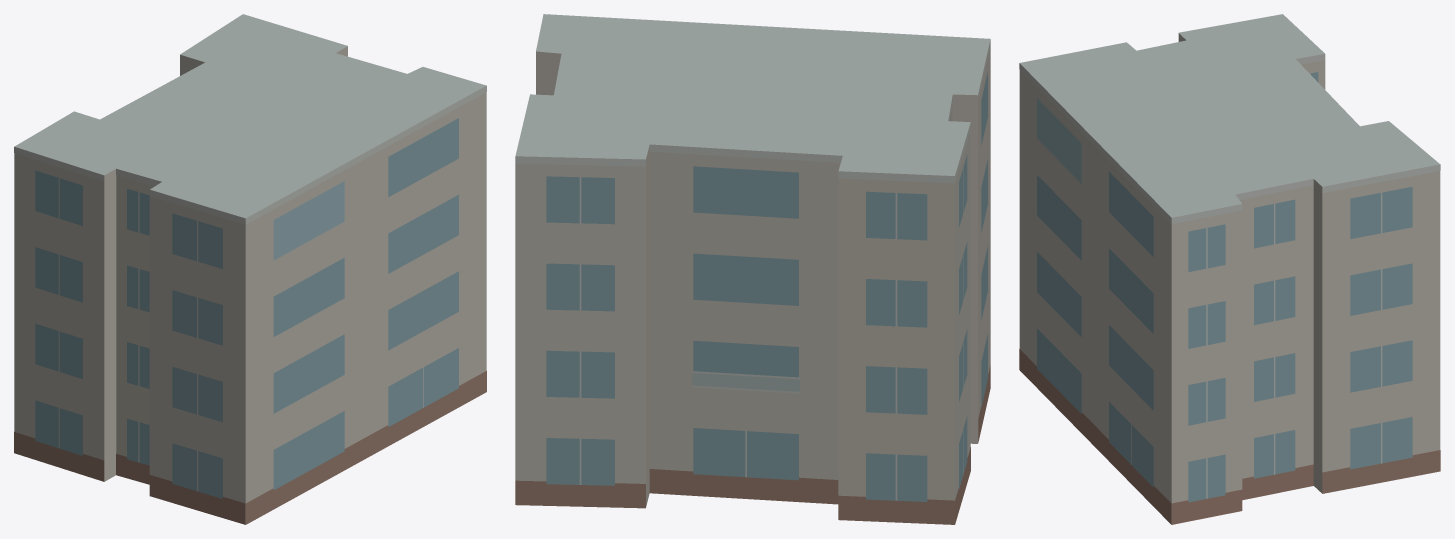
The model's file is survey-upis-32878526.glb.
The picture shows the model from 3 angles, left to right: view 1: azimuth 30°, elevation 25°; view 2: azimuth 150°, elevation 25°; view 3: azimuth 270°, elevation 25°; orthographic projection. The views are drawn at different scales.
Visible parts, largest first — view 1: survey-upis-32878526.tmp; view 2: survey-upis-32878526.tmp; view 3: survey-upis-32878526.tmp.
Part boxes in pixels (x1,y1,x2,y2): survey-upis-32878526.tmp: (14, 14, 486, 524); survey-upis-32878526.tmp: (515, 14, 990, 524); survey-upis-32878526.tmp: (1019, 14, 1440, 524).
Bounding box in the file's own units: 16.67 × 11.7 × 14.55.
